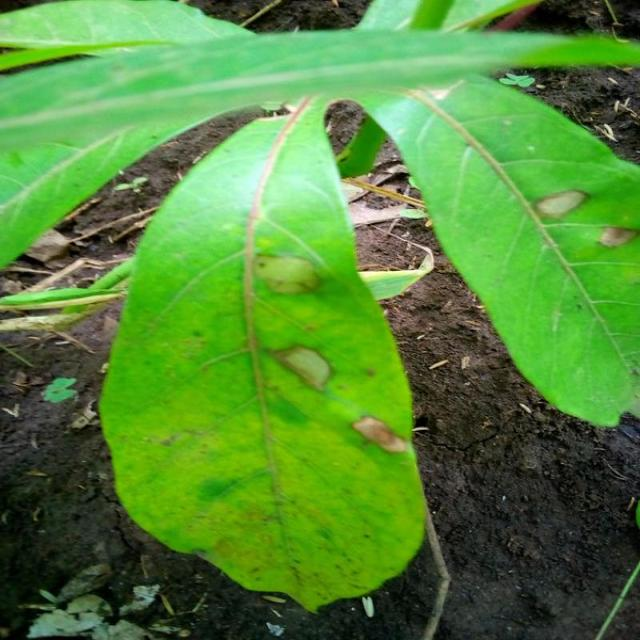cassava leaf: (97, 98, 428, 612)
